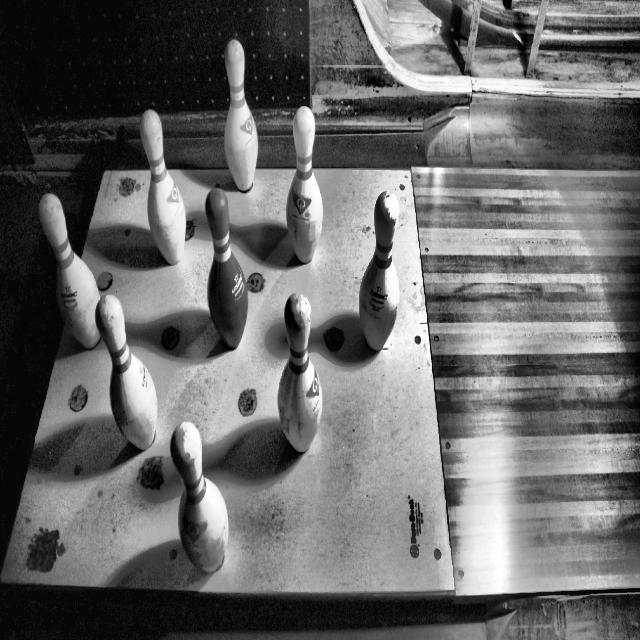bowling-pins: (95, 295, 157, 450), (38, 194, 100, 348), (170, 422, 229, 573), (278, 292, 323, 452), (205, 186, 248, 349), (141, 109, 185, 263), (360, 191, 399, 350), (287, 105, 323, 262), (225, 38, 258, 191)
